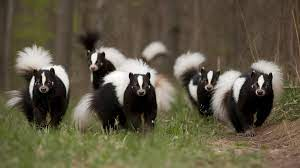skunk: (17, 47, 71, 127), (217, 70, 276, 131), (175, 55, 221, 118), (111, 72, 159, 126), (78, 36, 122, 84)
